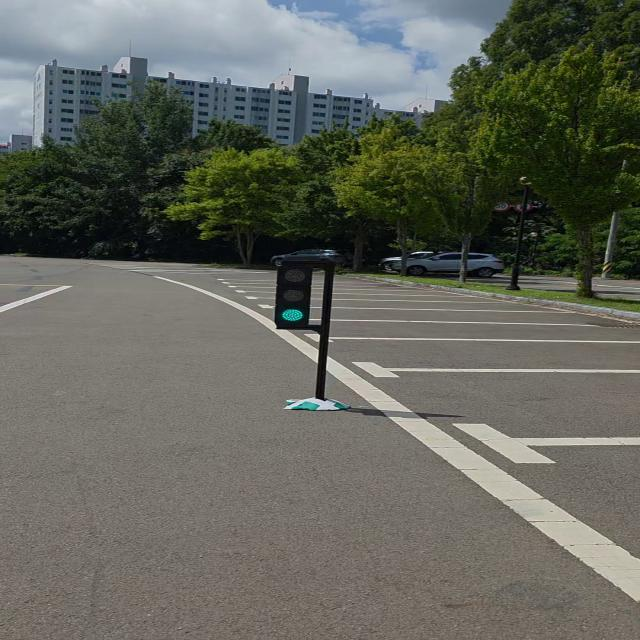green: (273, 258, 317, 331)
